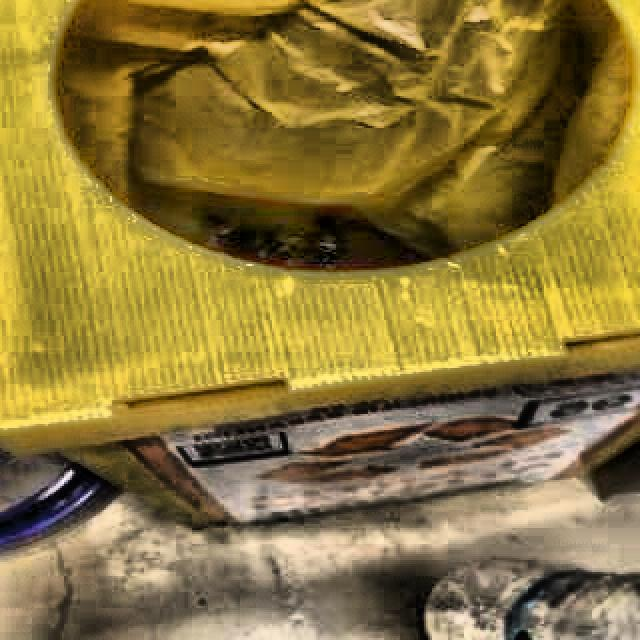plastic: (424, 558, 640, 640)
